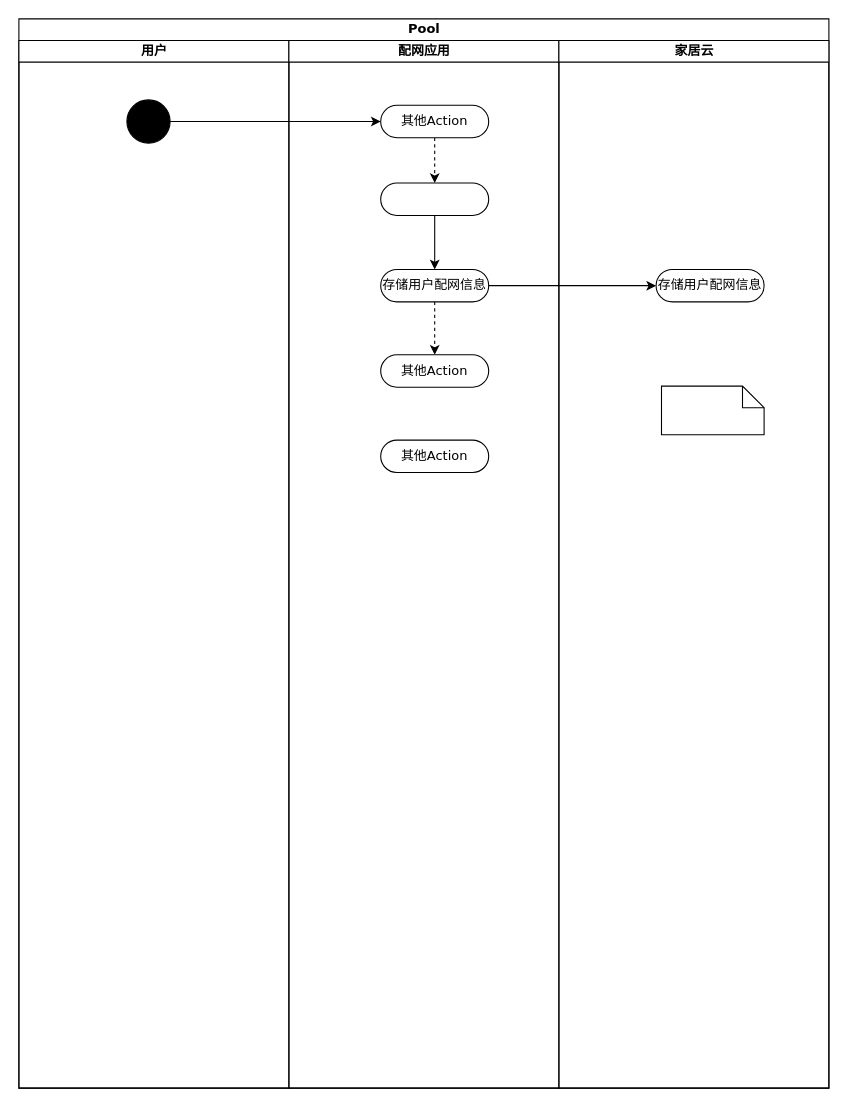
The diagram is 848 pixels wide and 1107 high, and some of its shapes have lost their labels. The centre of each missing label's shape, as x and y in pixels:
"Data" belongs at (712,410).
"开始" belongs at (148,121).
"设备配网" belongs at (434,198).
